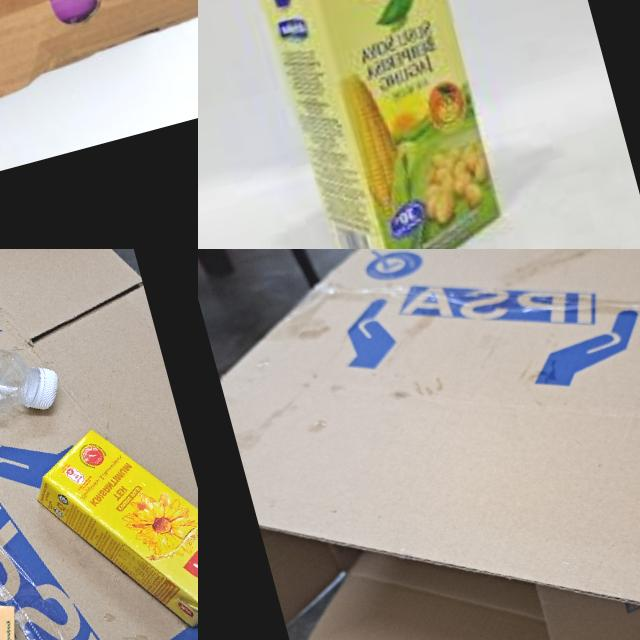caixinha: (253, 0, 517, 249), (26, 405, 198, 640)
garrafa plástica: (0, 261, 46, 434)
papelão: (198, 249, 640, 640), (0, 249, 198, 640), (0, 0, 198, 202)
tampa plástica: (24, 363, 66, 412)
